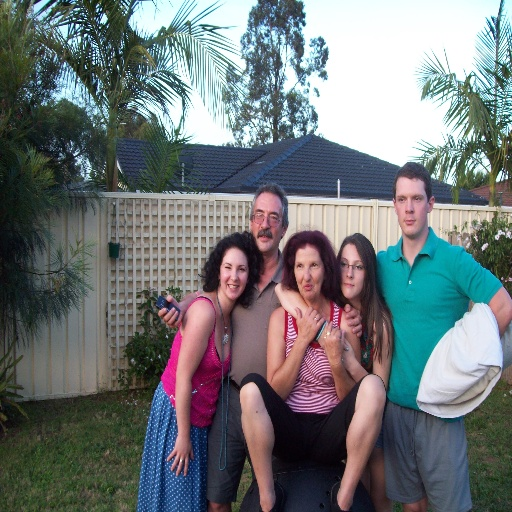hand: (164, 431, 196, 475), (294, 304, 326, 345), (323, 322, 346, 366), (158, 294, 184, 329), (344, 305, 363, 337)
